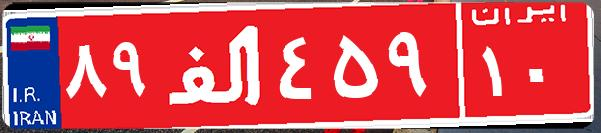0: (525, 38, 570, 115)
1: (475, 38, 525, 113)
4: (273, 28, 330, 110)
5: (330, 28, 385, 110)
8: (57, 26, 110, 107)
9: (385, 28, 445, 110), (110, 28, 158, 105)
الف: (158, 15, 273, 115)
